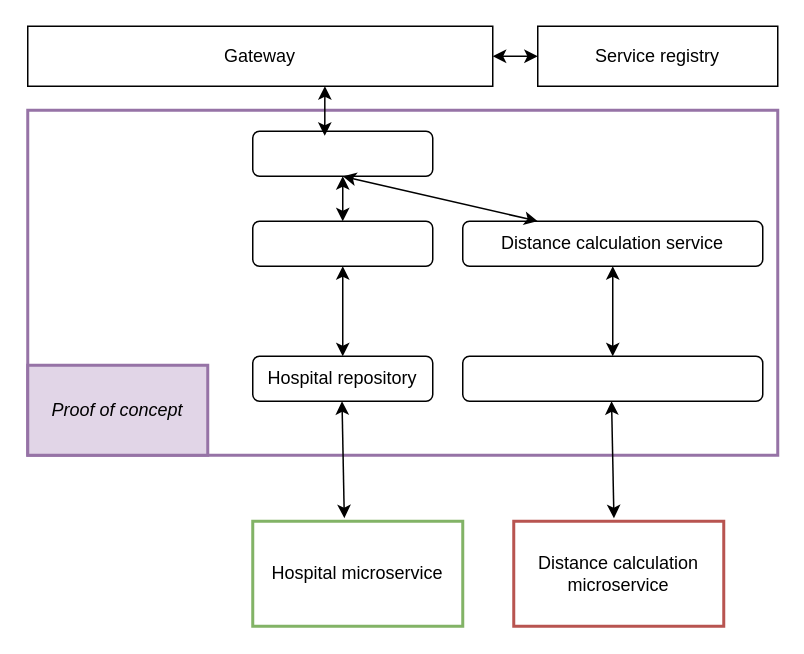
This 804x654 diagram has some shape labels left out. Each missing label, with the centre of its shape:
"Distance calculation repository" belongs at point 612,378.
"Hospital service" belongs at point 342,243.
"Urgency service" belongs at point 342,153.
